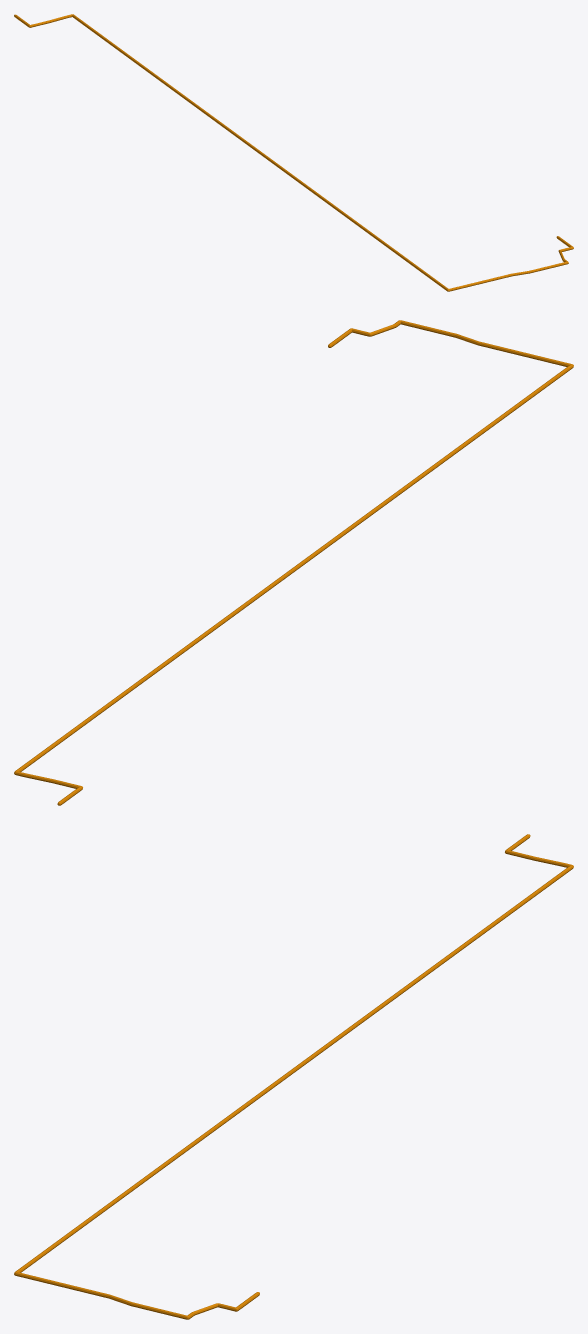
3 views of the same model, one above another, from view 1: azimuth 30°, elevation 25°; view 2: azimuth 150°, elevation 25°; view 3: azimuth 330°, elevation 25° (orthographic). The views are drawn at different scales.
Bounding box in the file's own units: 1444 × 20 × 5382.
